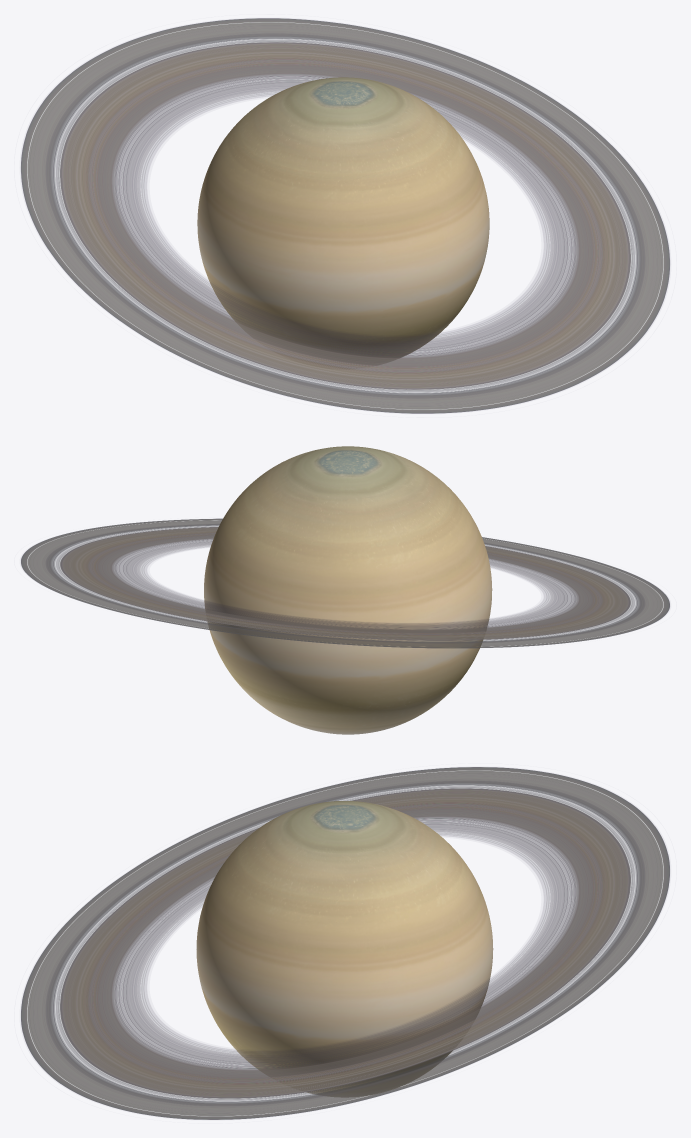
Rendered from saturn-real-8k.glb.
3 renders of one model, top to bottom at view 1: azimuth 30°, elevation 25°; view 2: azimuth 150°, elevation 25°; view 3: azimuth 270°, elevation 25°, orthographic. The views are drawn at different scales.
Parts seen in each view (by area): view 1: Circle, Sphere.001; view 2: Sphere.001, Circle; view 3: Circle, Sphere.001.
Boxes of the visible parts, x1,y1,x2,y2 form: Circle: (21, 18, 669, 413); Sphere.001: (197, 77, 489, 364); Sphere.001: (204, 446, 492, 734); Circle: (21, 518, 669, 648); Circle: (21, 767, 669, 1119); Sphere.001: (196, 801, 493, 1097).
Size of the model in its own units: 1.59 by 0.6902 by 1.54.
Materials: 2 (2 with a texture image).
